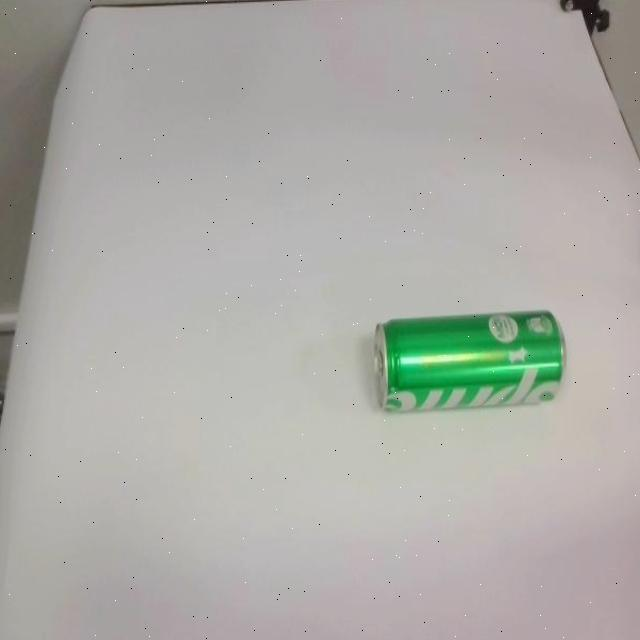debris: (372, 308, 568, 416)
